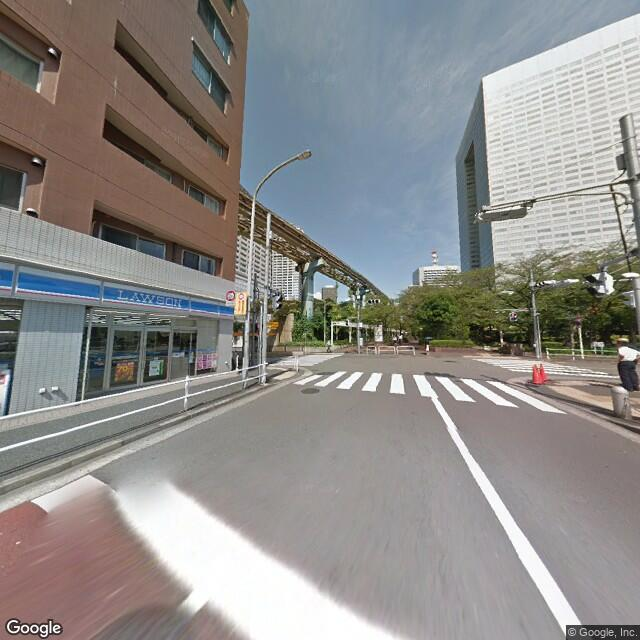lawson: (1, 257, 234, 324), (115, 279, 186, 312)
